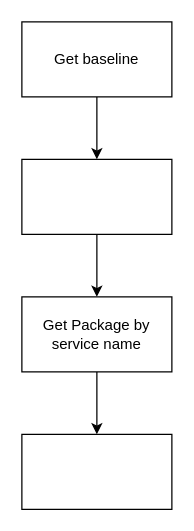
Some shapes in this 194 by 531 pixel diagram are drawn without their labels. Here are the shapes that lost their labels. From the top down, the centre of each, then its label:
At pixel 96 196: "Get service name from serviceId and annotations".
At pixel 96 471: "Get versions".
